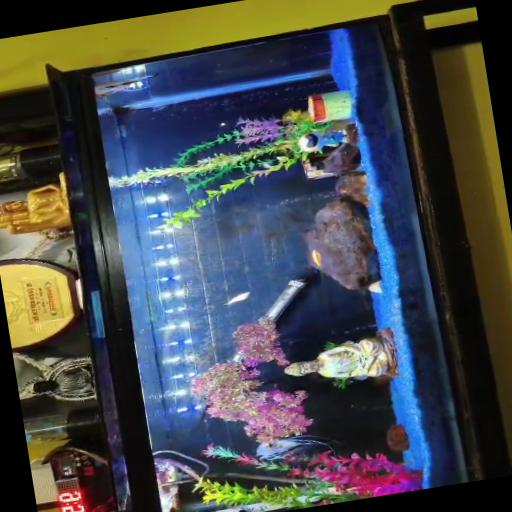Fish: (256, 435, 339, 460), (95, 74, 157, 97), (226, 292, 250, 305)
